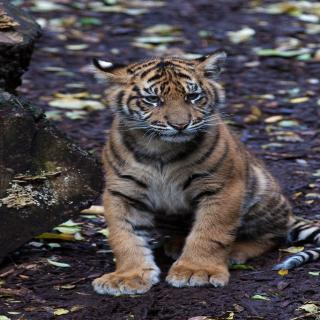Tiger: (92, 50, 320, 292)
